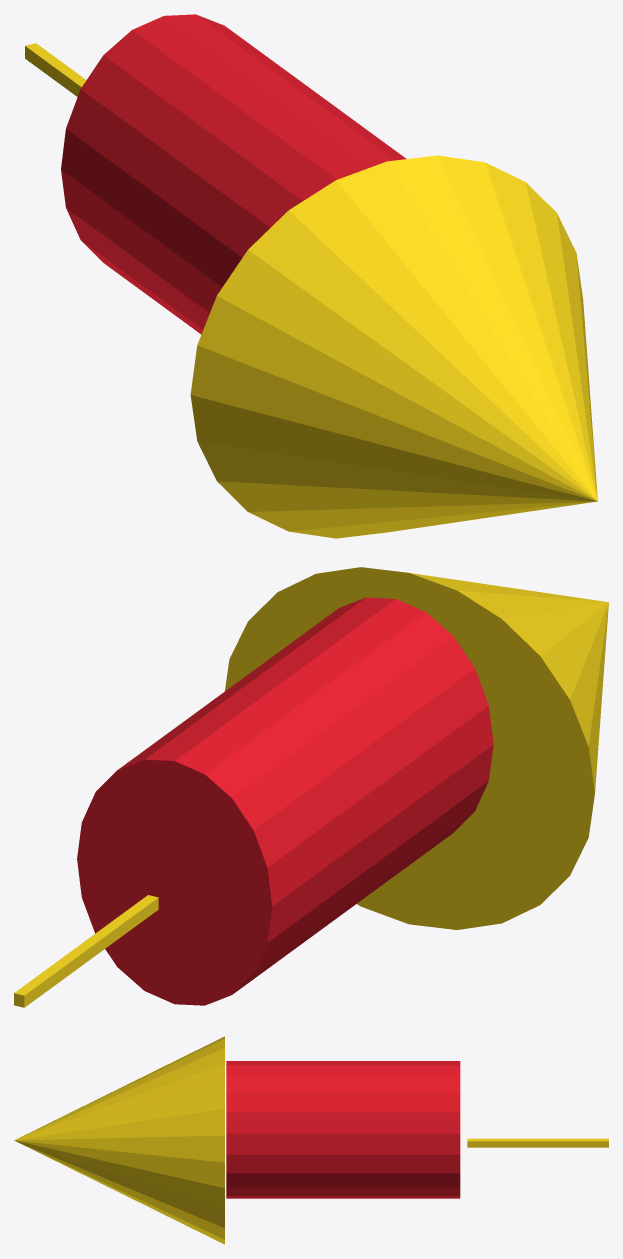
File: tinker.obj
The picture shows the model from 3 angles, top to bottom: view 1: azimuth 30°, elevation 25°; view 2: azimuth 150°, elevation 25°; view 3: azimuth 270°, elevation 25°; orthographic projection. The views are drawn at different scales.
Parts seen in each view (by area): view 1: group_0_16768282, group_0_15277357; view 2: group_0_15277357, group_0_16768282; view 3: group_0_15277357, group_0_16768282.
Part boxes in pixels (x1,y1,x2,y2): group_0_16768282: (25,43,597,538); group_0_15277357: (61,14,406,334); group_0_15277357: (77,597,493,1005); group_0_16768282: (14,567,608,1007); group_0_15277357: (226,1061,460,1198); group_0_16768282: (14,1036,608,1244).
Bounding box in the file's own units: 32 × 28.9 × 84.
